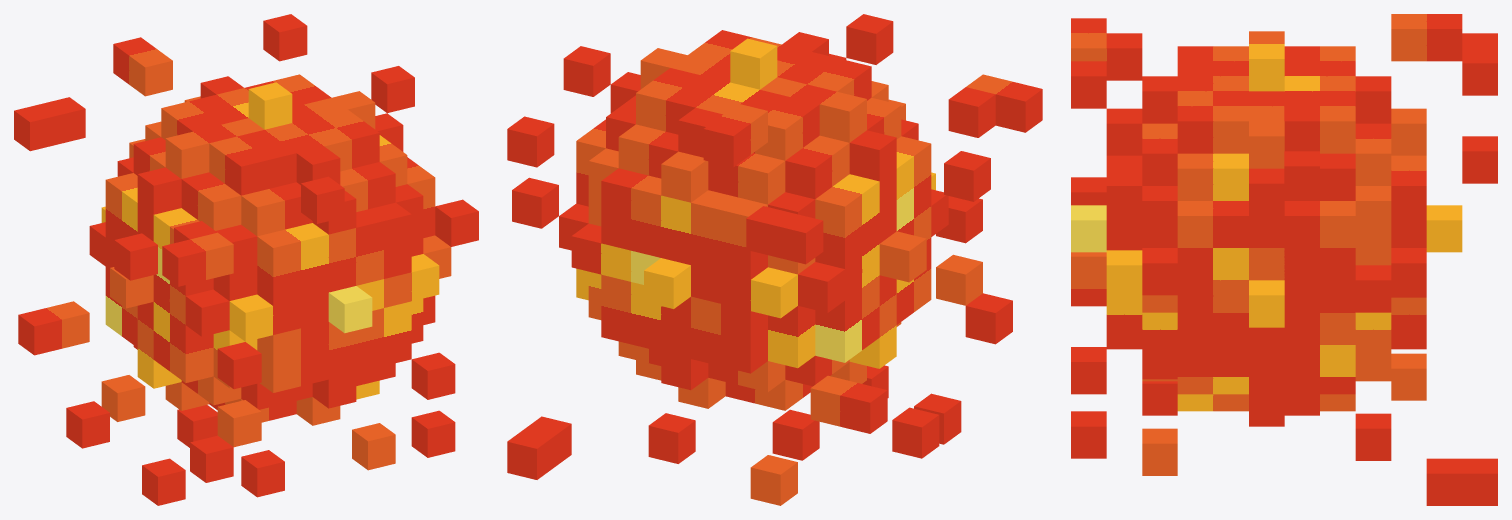
The picture shows the model from 3 angles, left to right: view 1: azimuth 30°, elevation 25°; view 2: azimuth 150°, elevation 25°; view 3: azimuth 270°, elevation 25°; orthographic projection. The views are drawn at different scales.
Parts seen in each view (by area): view 1: Object; view 2: Object; view 3: Object.
Part boxes in pixels (<box>): Object: <box>14,14,478,505</box>; Object: <box>507,14,1042,505</box>; Object: <box>1071,14,1497,505</box>.
Size of the model in its own units: 12 by 12 by 12.
1 material, 1 textured.
